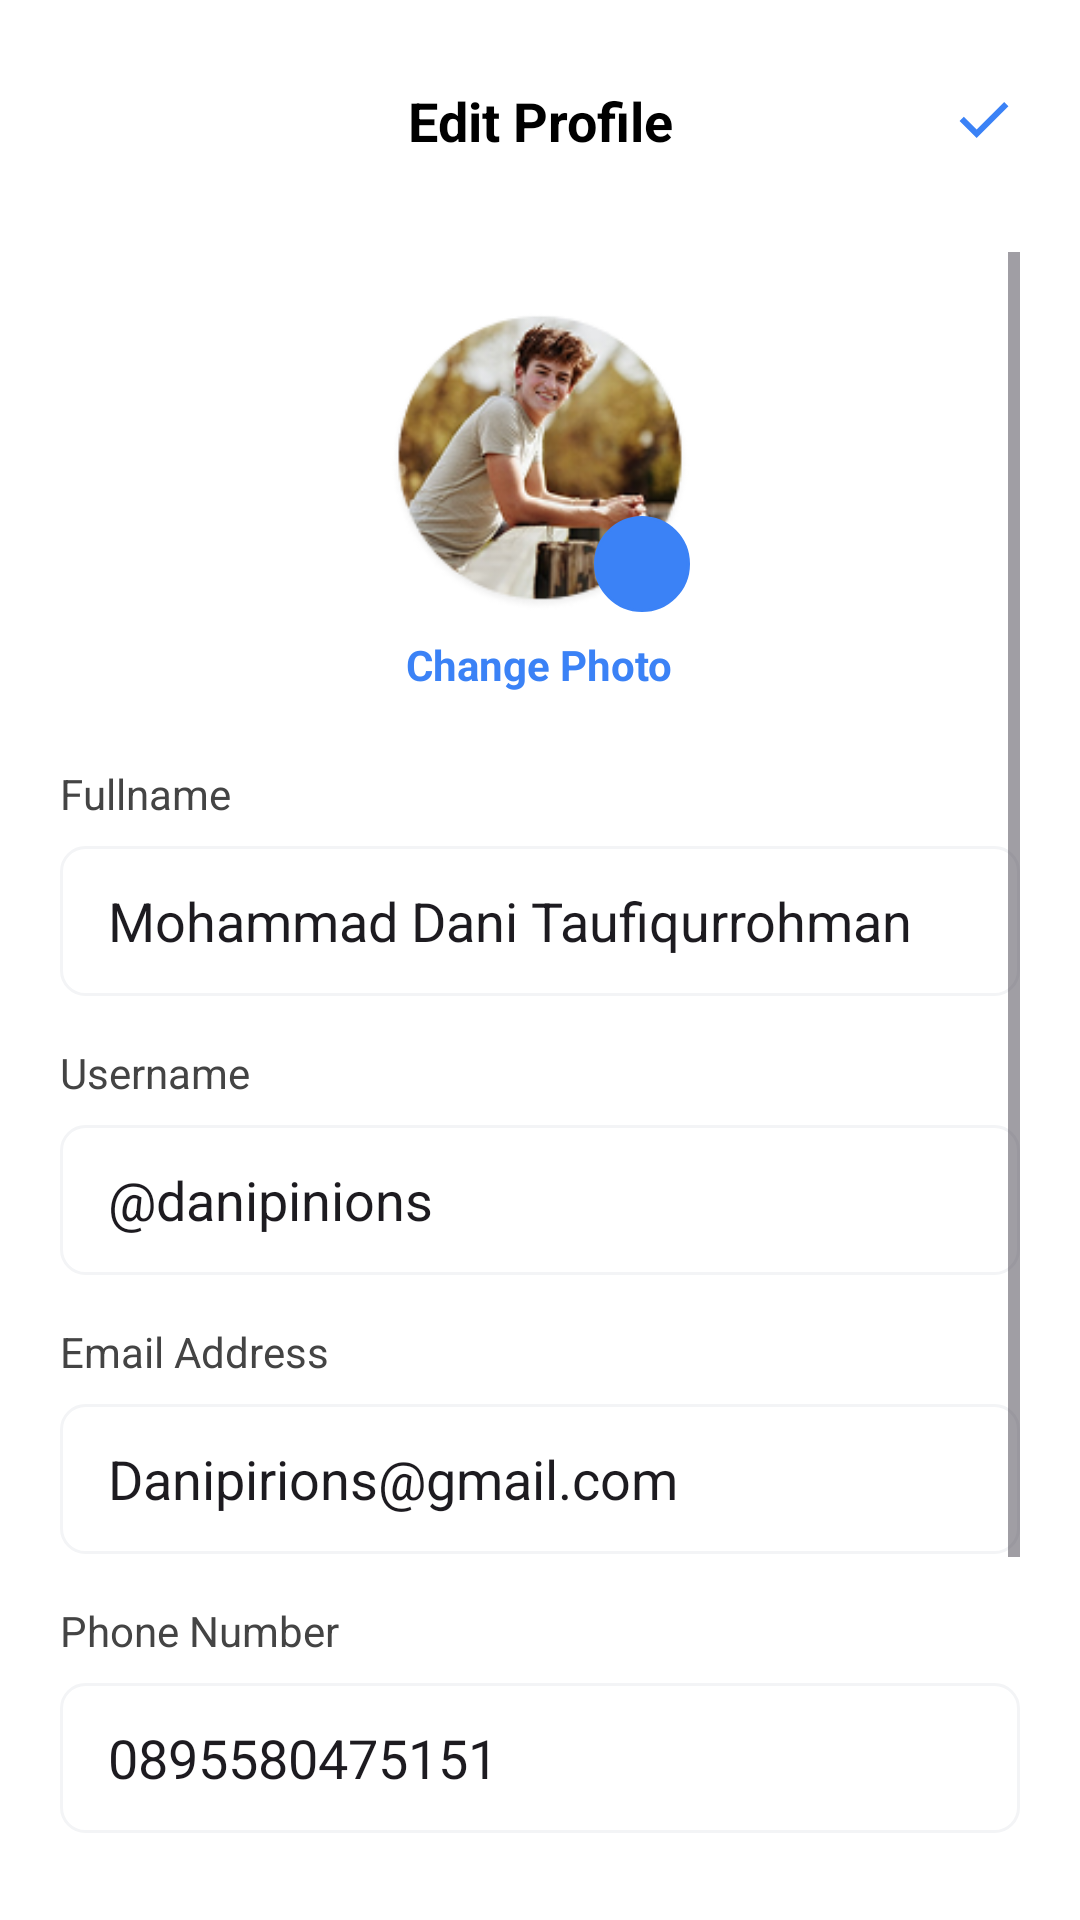

Screen size 1080*1920. Icon name, then its center in pixels as [x,y]:
Save: [984,120]
